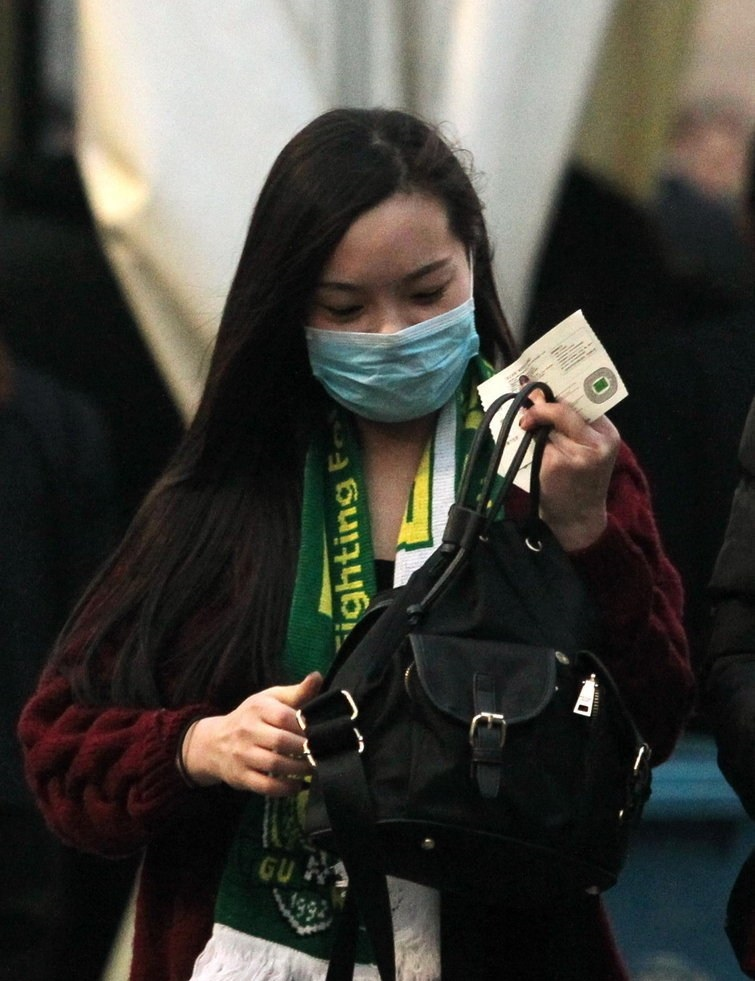face_mask: (304, 190, 471, 427)
